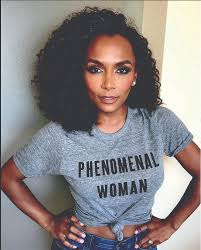black_female: (22, 2, 165, 141)
